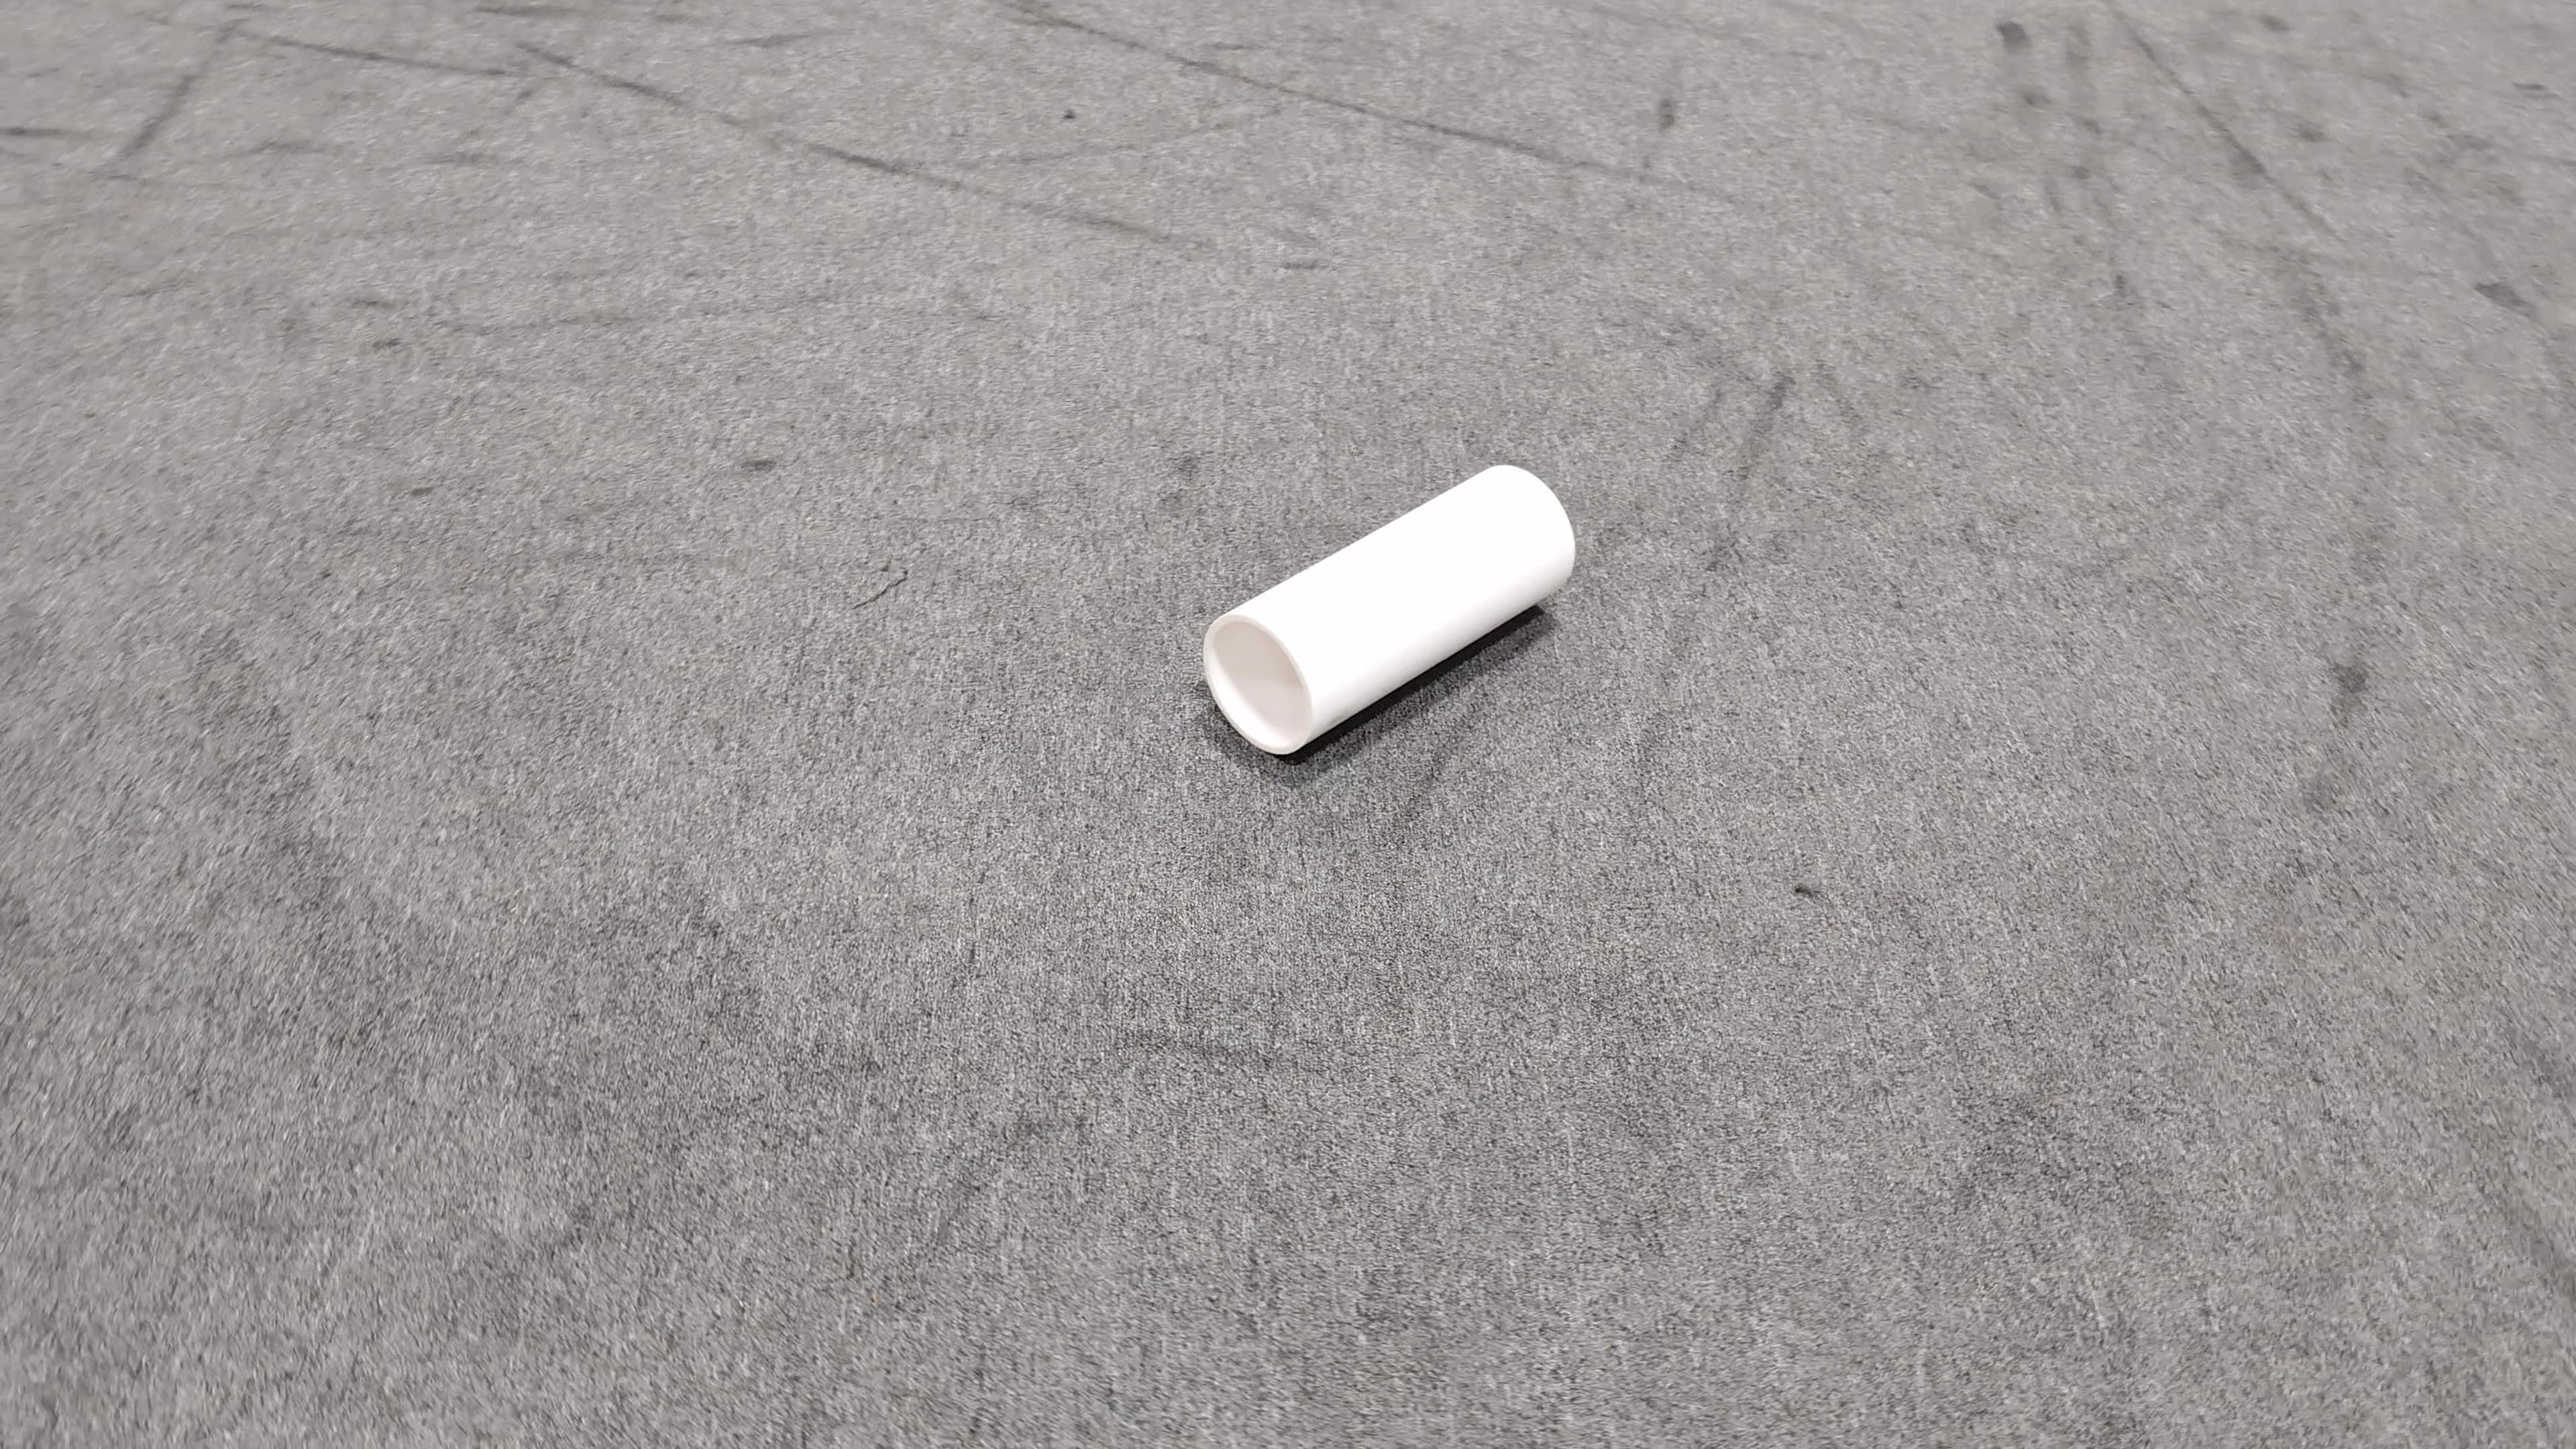coral: (1203, 464, 1575, 755)
